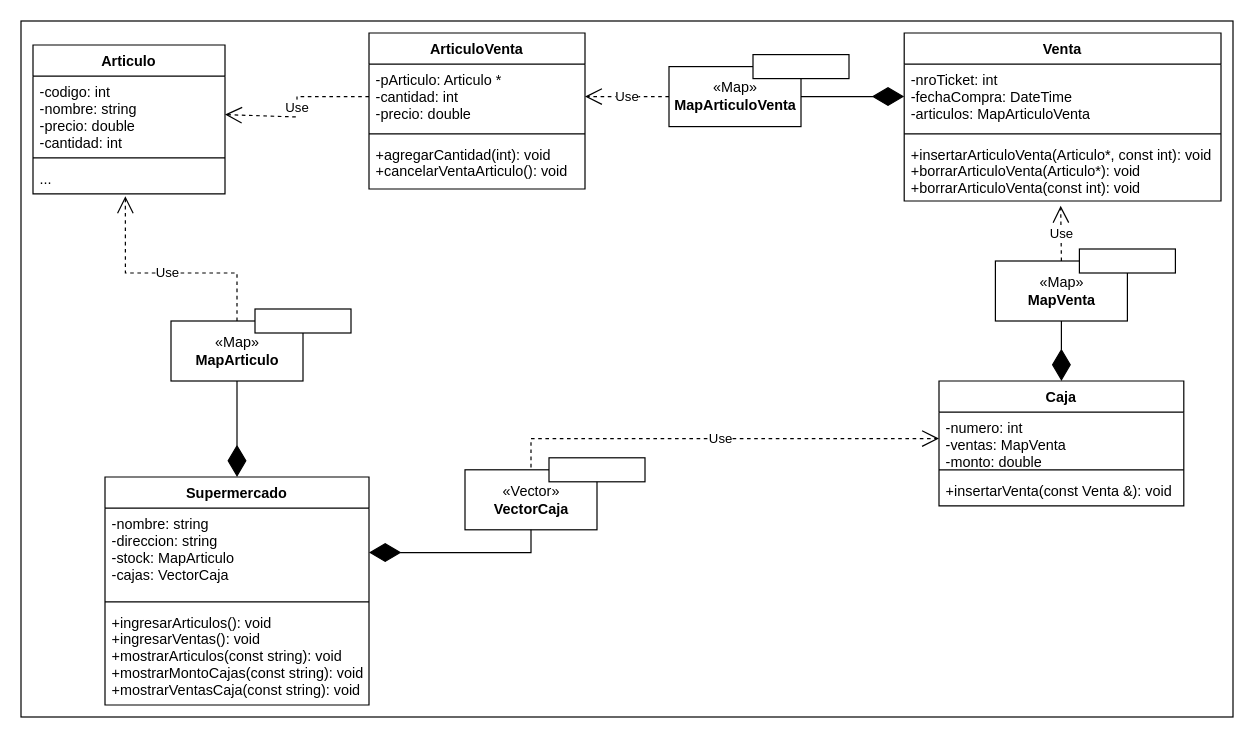
Some shapes in this 1254 by 738 pixel diagram are drawn without their labels. The shapes that lost their labels are listed below. From the top down, each one's centre as x and y in pixels, then its label:
point 800,66: :ArticuloVenta
point 1126,260: :Venta
point 302,320: :Articulo
point 596,469: :Caja
